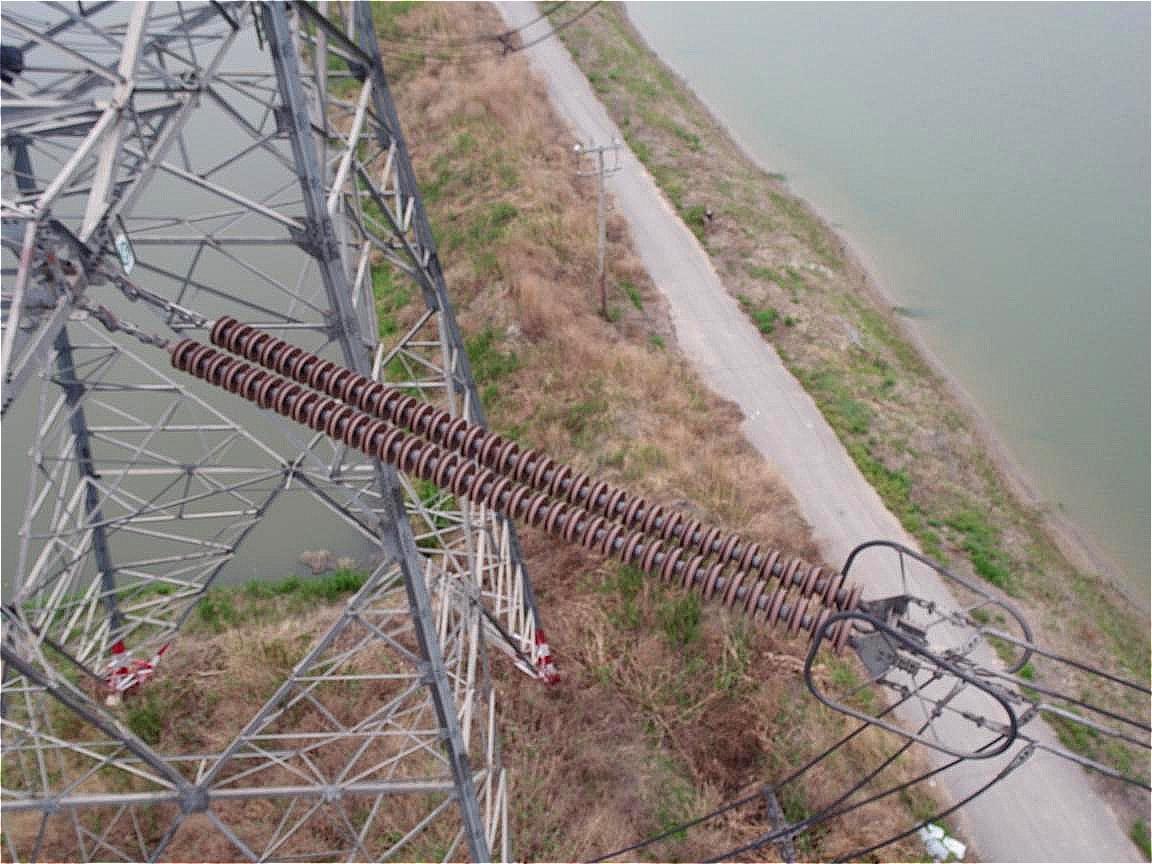insultor2: (142, 307, 888, 647)
